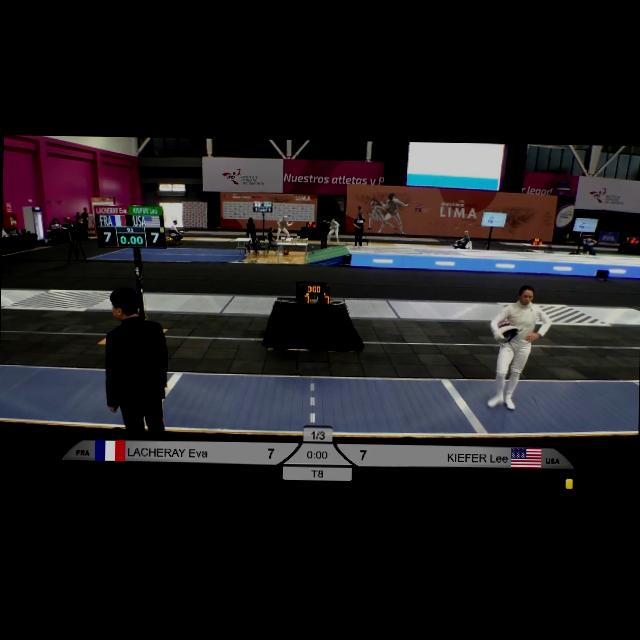blade: (502, 334, 548, 419)
